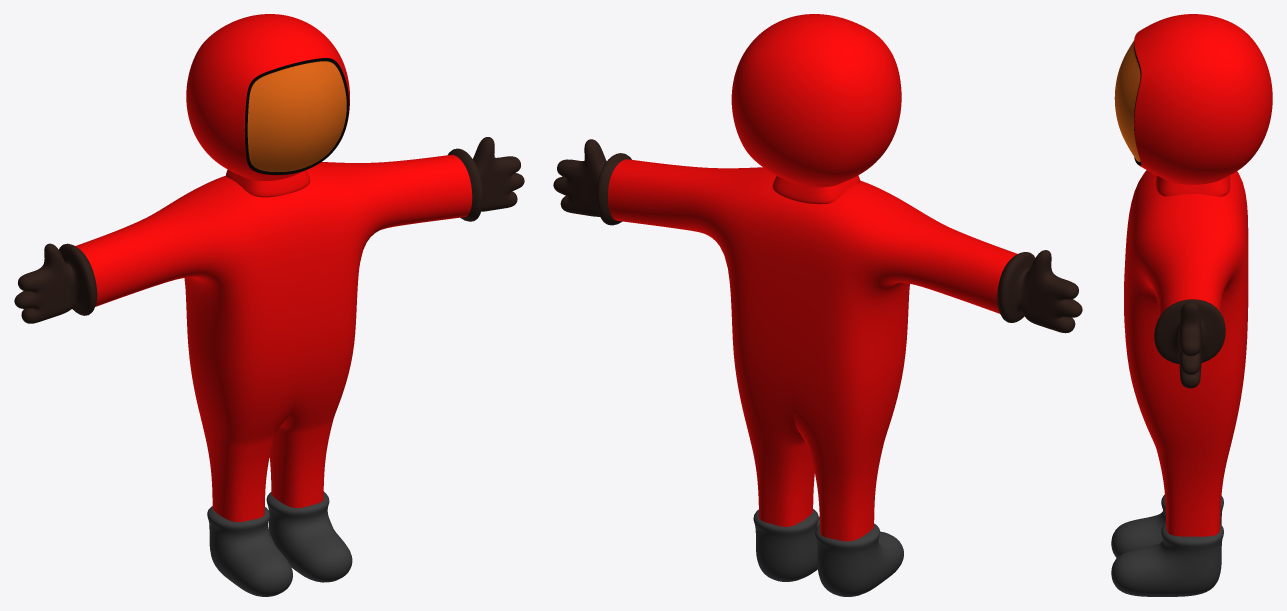
Rendered from rocketman.fbx.
3 renders of one model, left to right at view 1: azimuth 30°, elevation 25°; view 2: azimuth 150°, elevation 25°; view 3: azimuth 270°, elevation 25°, orthographic. The views are drawn at different scales.
Parts seen in each view (by area): view 1: RocketMan; view 2: RocketMan; view 3: RocketMan.
Boxes of the visible parts, x1,y1,x2,y2 form: RocketMan: [14, 14, 524, 596]; RocketMan: [553, 14, 1082, 596]; RocketMan: [1111, 14, 1272, 596].
Bounding box in the file's own units: 435 × 446 × 118.
